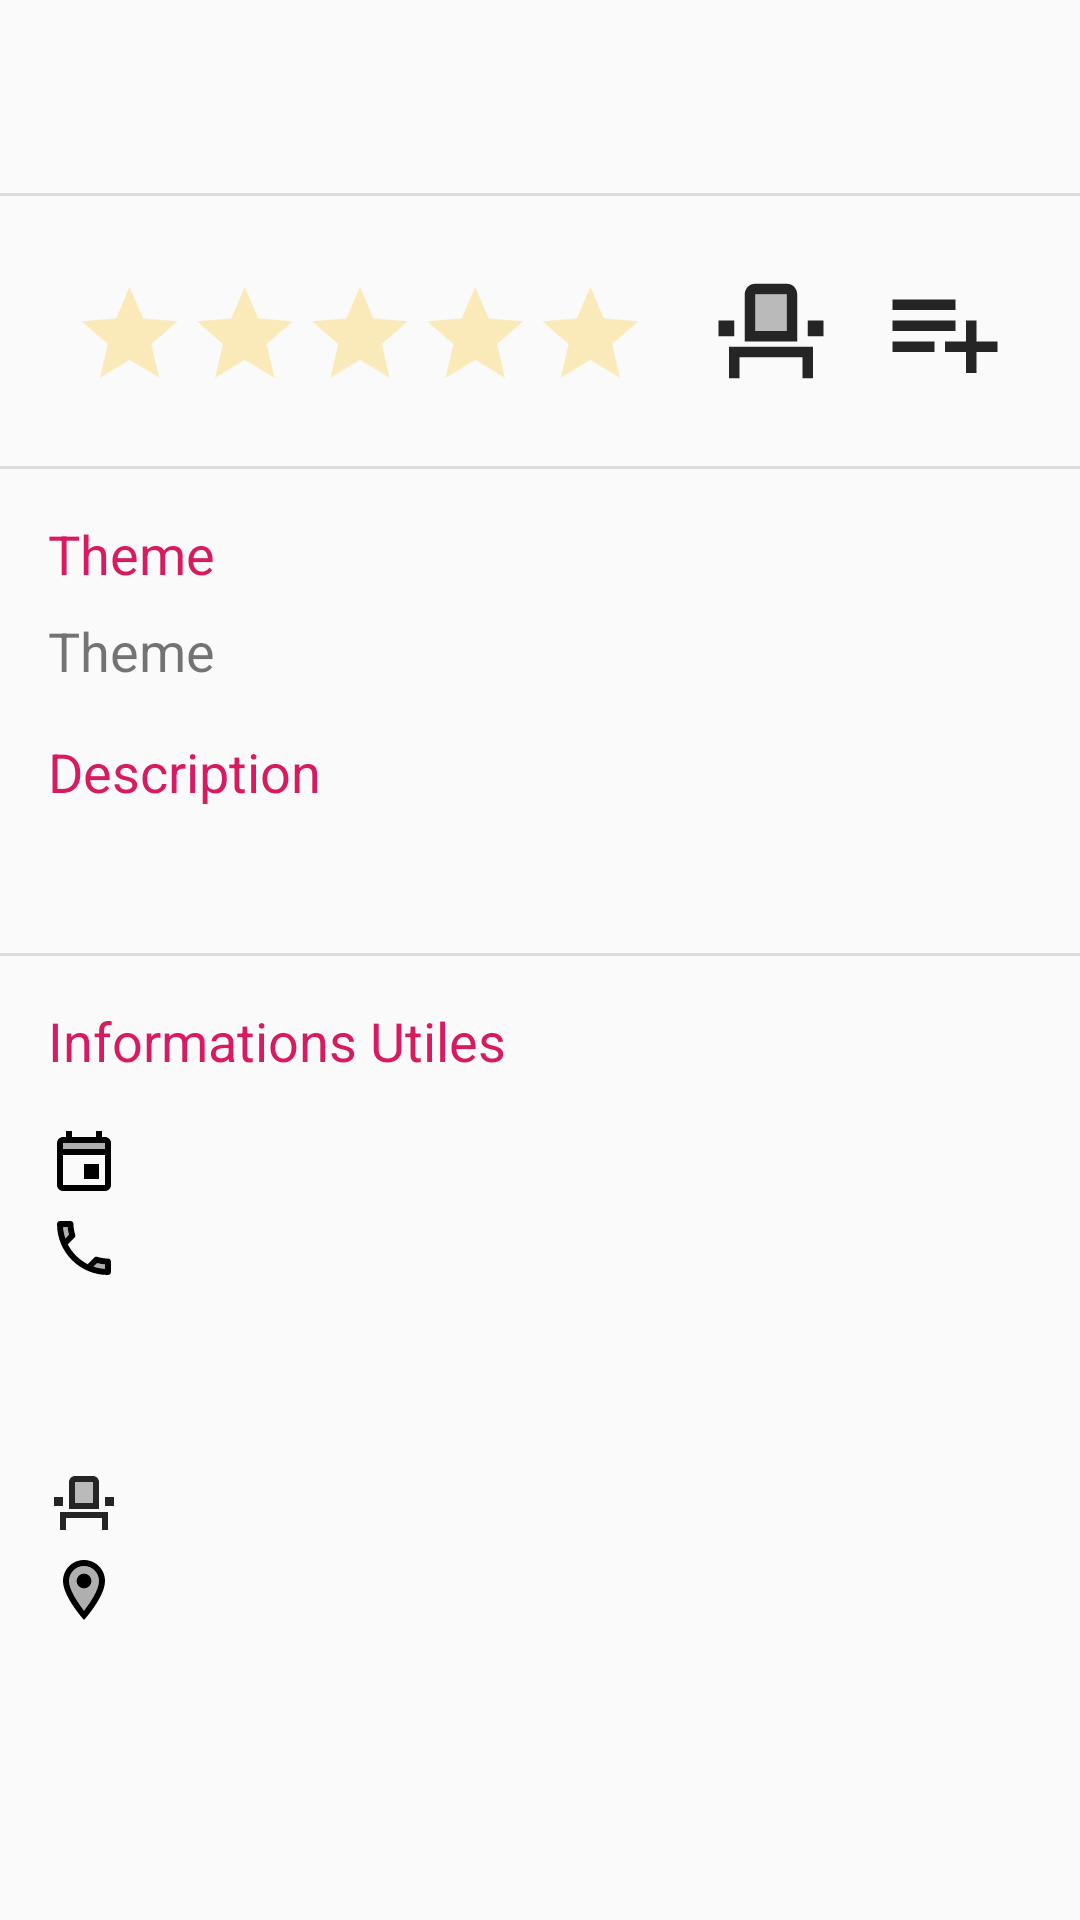

Named icons in this screenshot (1080px x 1920px) and their bounding boxes, (x1, y1, x2, y2):
event: (57, 1131, 111, 1191)
event seat: (718, 283, 824, 379), (54, 1476, 114, 1530)
phone: (57, 1221, 111, 1275)
place: (63, 1560, 105, 1620)
playlist add: (892, 299, 998, 373)
